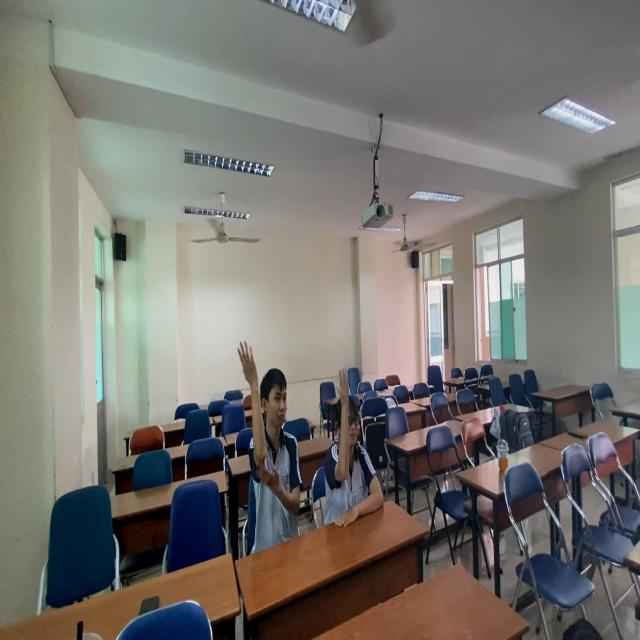raise_hand: (236, 337, 306, 545), (327, 360, 376, 518)
